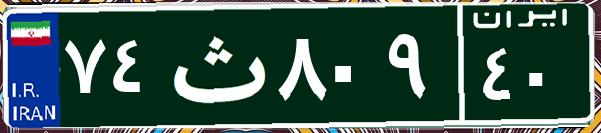0: (330, 28, 385, 110), (525, 38, 570, 115)
4: (475, 38, 525, 113), (110, 28, 158, 105)
7: (57, 26, 110, 107)
8: (273, 28, 330, 110)
9: (385, 28, 445, 110)
ث: (158, 15, 273, 115)
